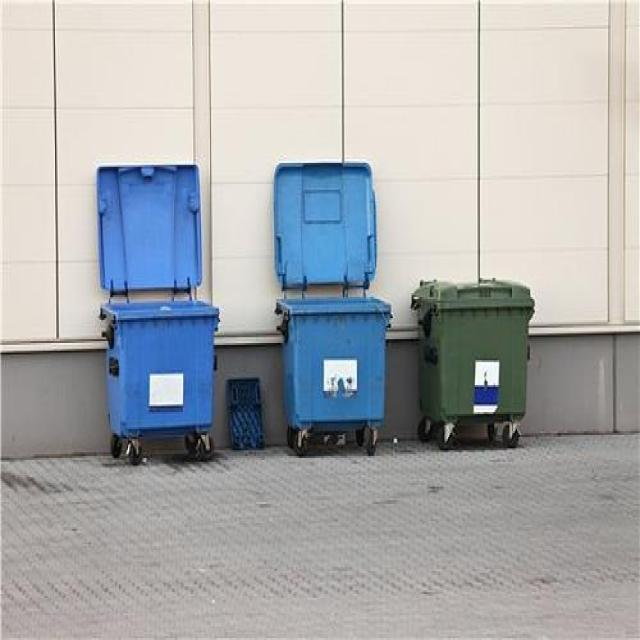garbage_bin: (409, 276, 534, 420), (96, 297, 220, 435), (273, 293, 392, 427)
